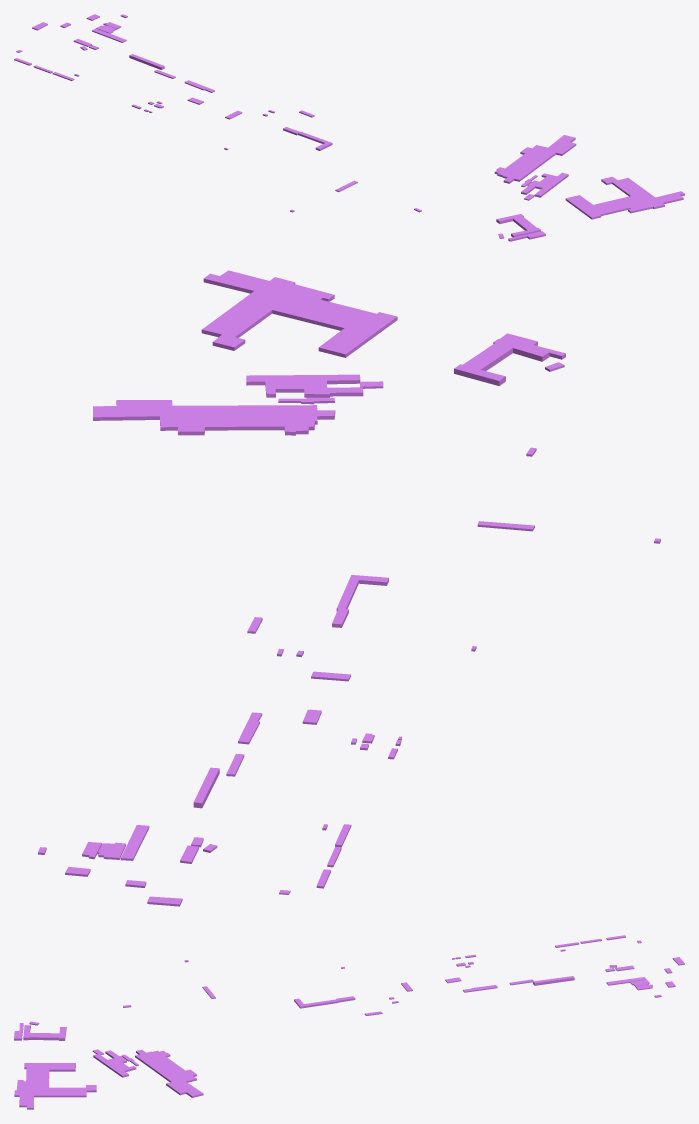
3 renders of one model, top to bottom at view 1: azimuth 30°, elevation 25°; view 2: azimuth 150°, elevation 25°; view 3: azimuth 270°, elevation 25°, orthographic. The views are drawn at different scales.
Parts seen in each view (by area): view 1: 2021.010; view 2: 2021.010; view 3: 2021.010.
Part boxes in pixels (bbox=[...]): 2021.010: bbox=[14, 14, 684, 241]; 2021.010: bbox=[38, 270, 660, 906]; 2021.010: bbox=[14, 935, 684, 1109].
Size of the model in its own units: 2187 by 15.32 by 3573.
